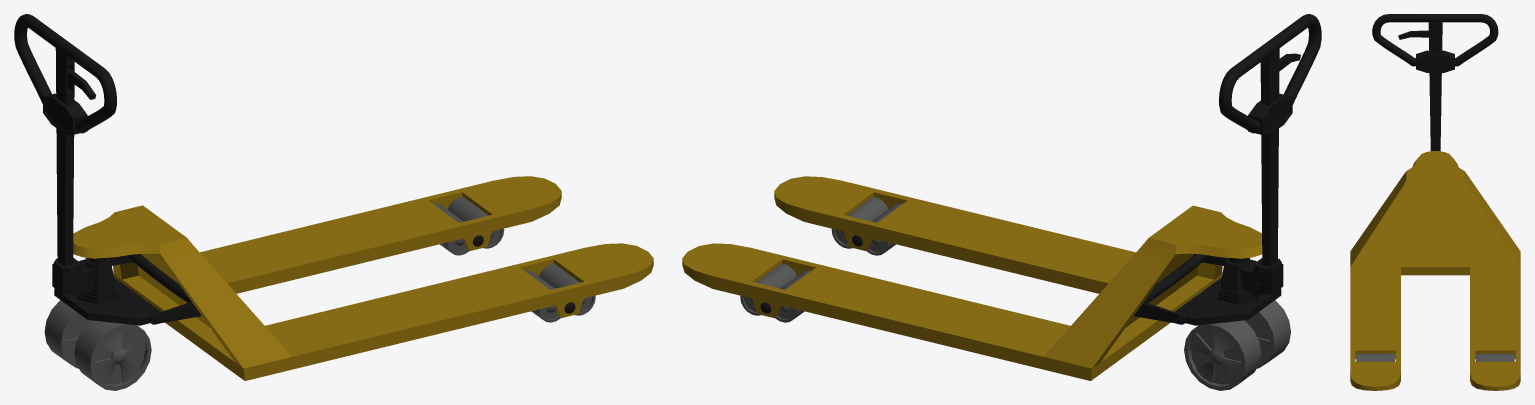
The model's file is PalletJack.fbx.
The picture shows the model from 3 angles, left to right: view 1: azimuth 30°, elevation 25°; view 2: azimuth 150°, elevation 25°; view 3: azimuth 270°, elevation 25°; orthographic projection. The views are drawn at different scales.
Parts seen in each view (by area): view 1: Box001, Box005, Cylinder001; view 2: Box001, Box005, Cylinder001; view 3: Box001, Box005, Cylinder001.
Part boxes in pixels (x1=…): Box001: x1=73, y1=176, x2=653, y2=380; Box005: x1=14, y1=14, x2=575, y2=325; Cylinder001: x1=44, y1=196, x2=595, y2=390; Box001: x1=682, y1=176, x2=1262, y2=380; Box005: x1=760, y1=14, x2=1321, y2=325; Cylinder001: x1=740, y1=196, x2=1290, y2=390; Box001: x1=1350, y1=151, x2=1520, y2=390; Box005: x1=1372, y1=14, x2=1498, y2=151; Cylinder001: x1=1356, y1=353, x2=1514, y2=361.
Size of the model in its own units: 71.63 by 42.82 by 29.68.
